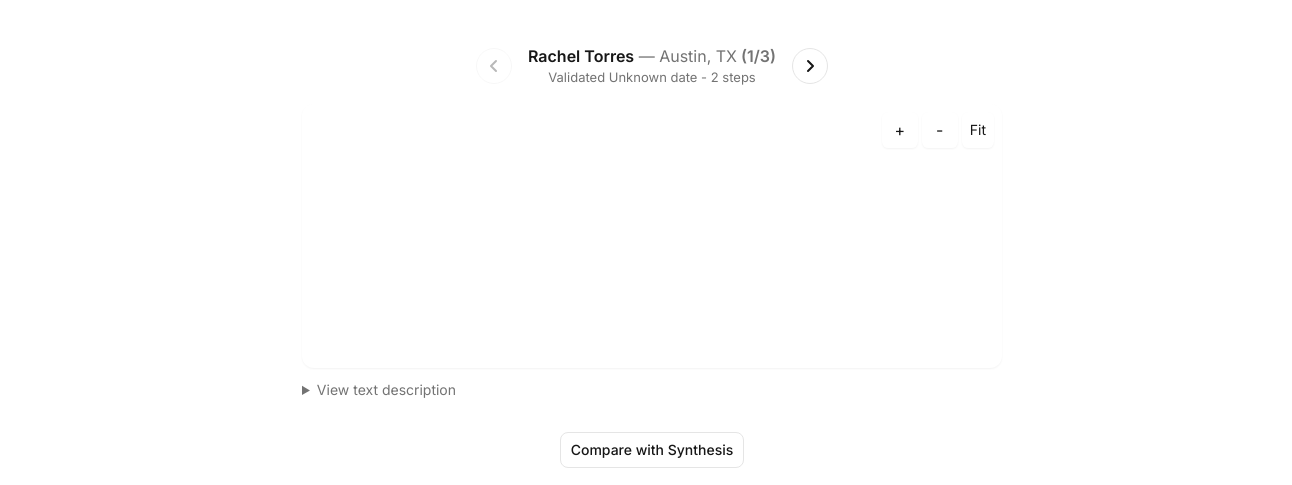
ComparisonView › clicking "Compare with Synthesis" transitions to Mode 2 split-screen
Click the button "Compare with Synthesis": [652, 450] box [560,432,744,468]
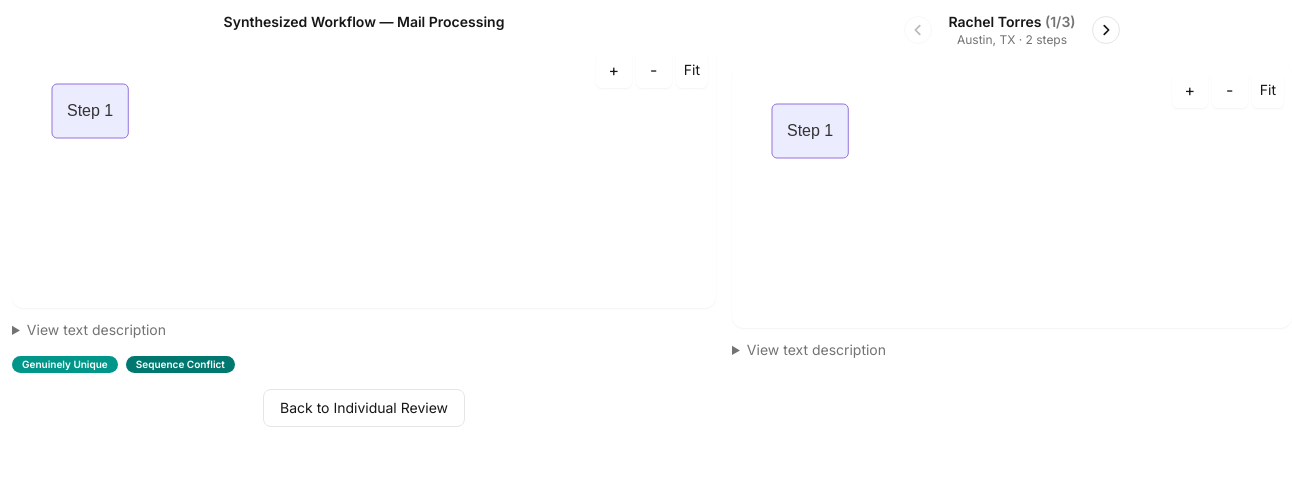
Check: the button "Back to Individual Review" is shown, box [263,388,465,426]
Check: the heading "Synthesized Workflow — Mail Processing" is shown, box [224,13,504,30]
